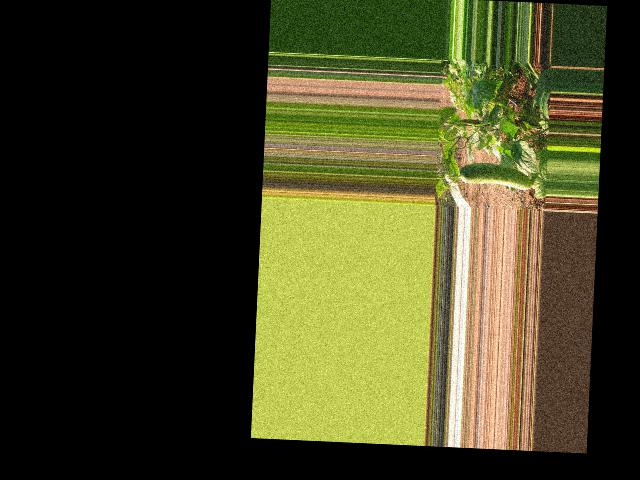cucumber: (459, 162, 533, 190)
